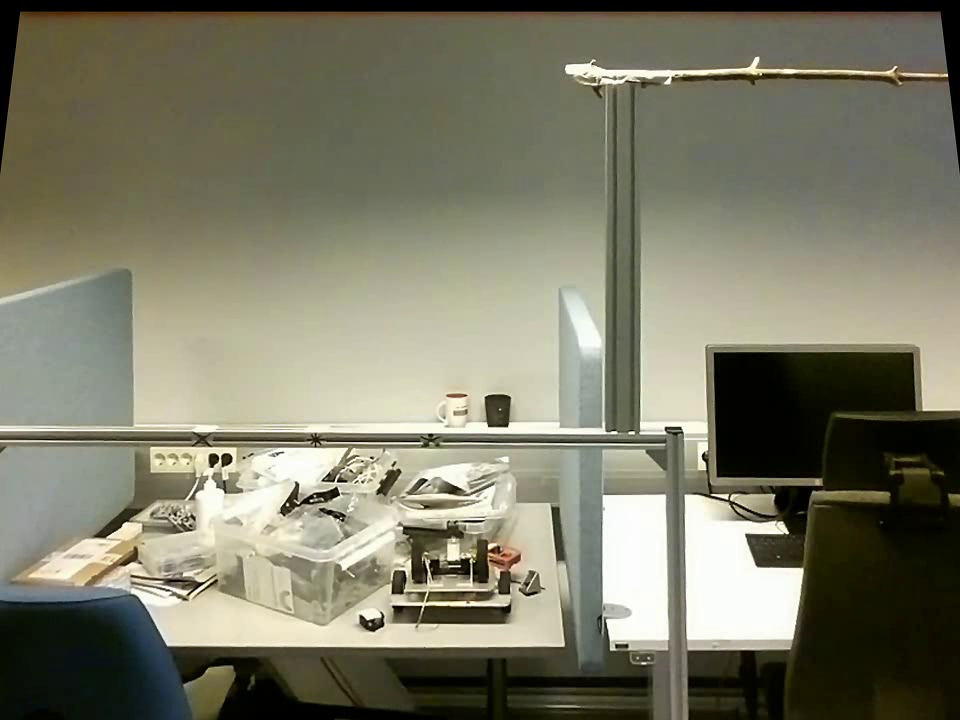aluminum_frame: (6, 419, 668, 450), (604, 86, 641, 435), (665, 431, 690, 718)
branch: (680, 52, 946, 94)
